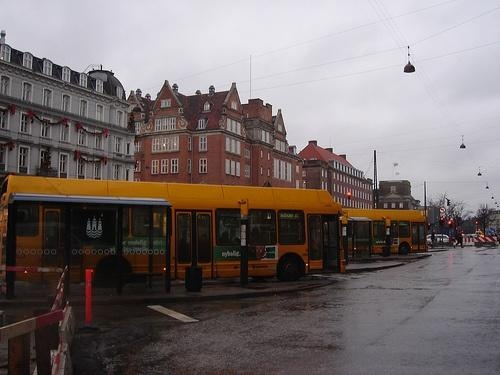bus: (1, 170, 354, 294), (344, 210, 428, 258)
